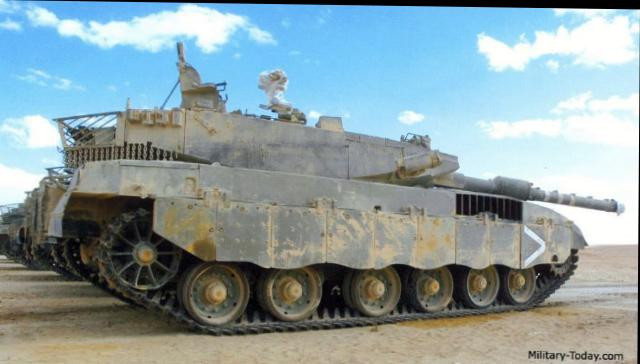tank: (14, 118, 579, 319)
